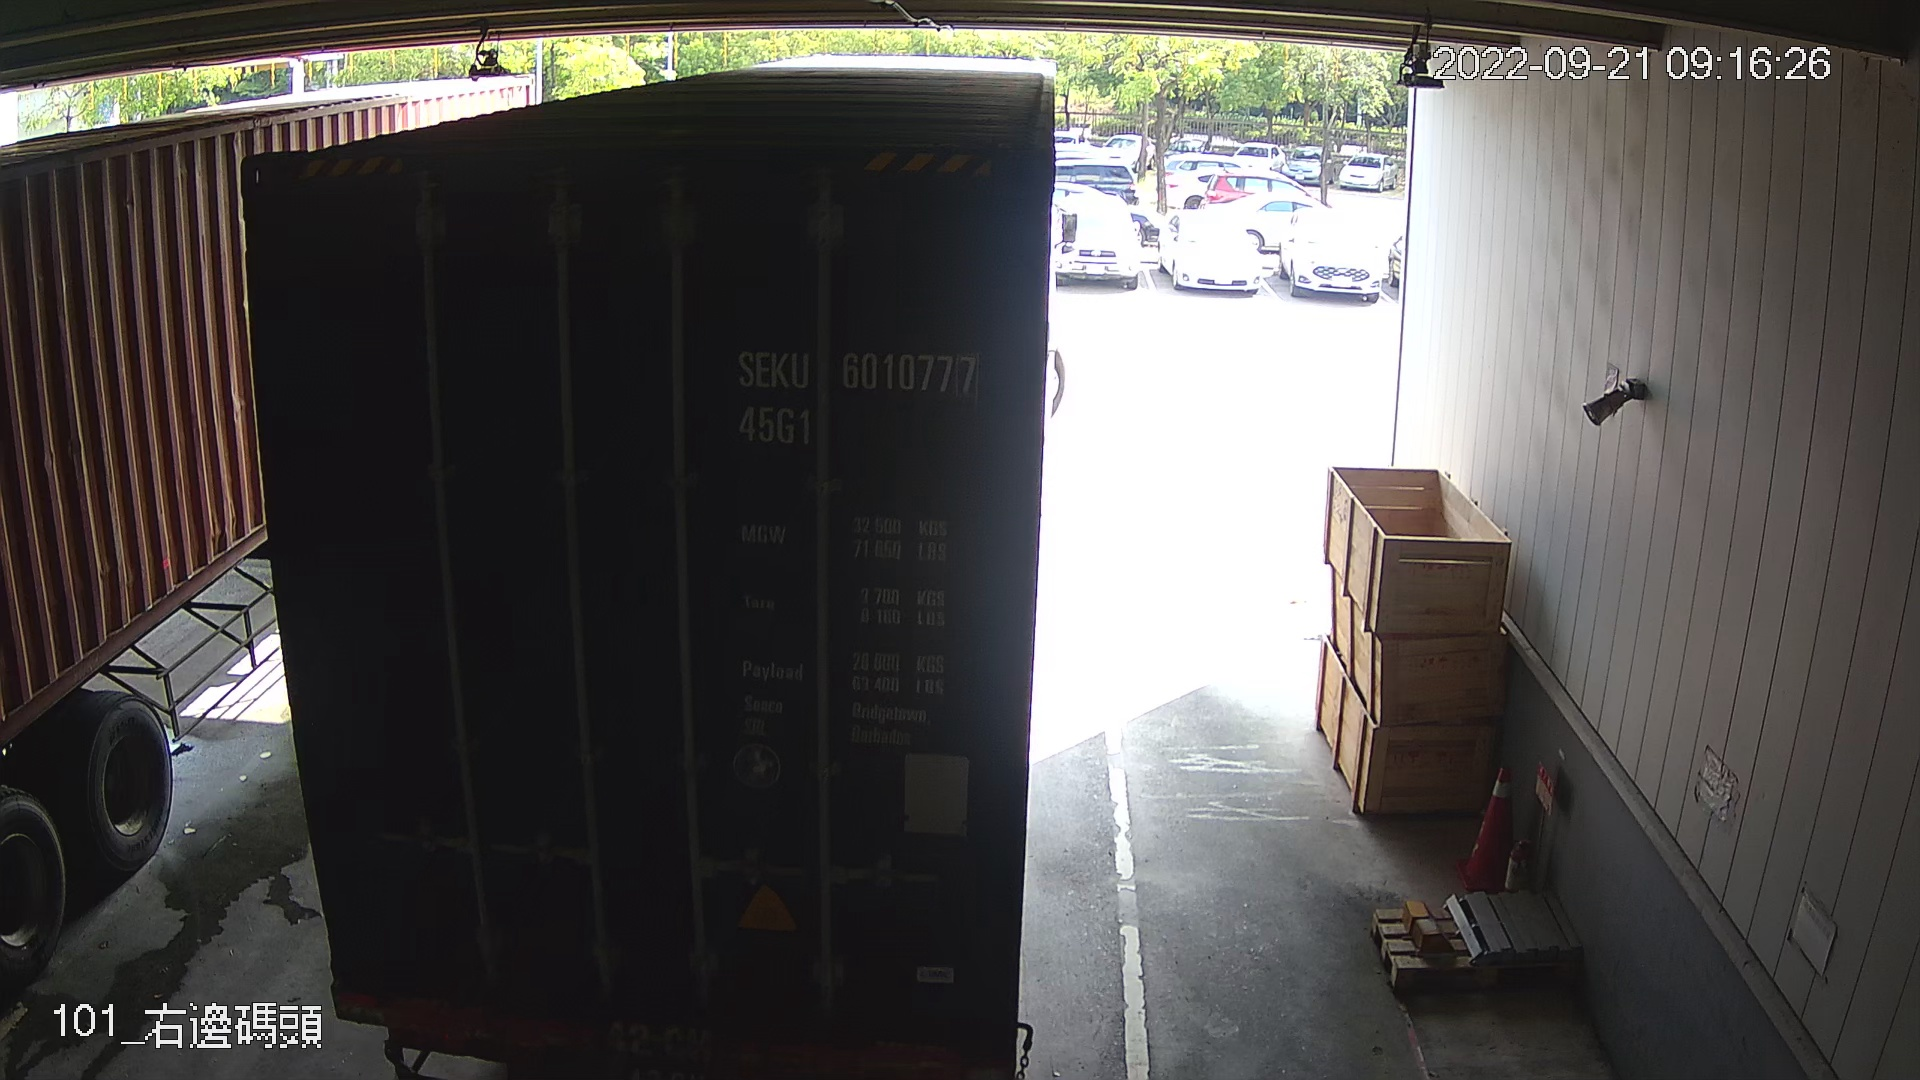container: (719, 335, 992, 465)
